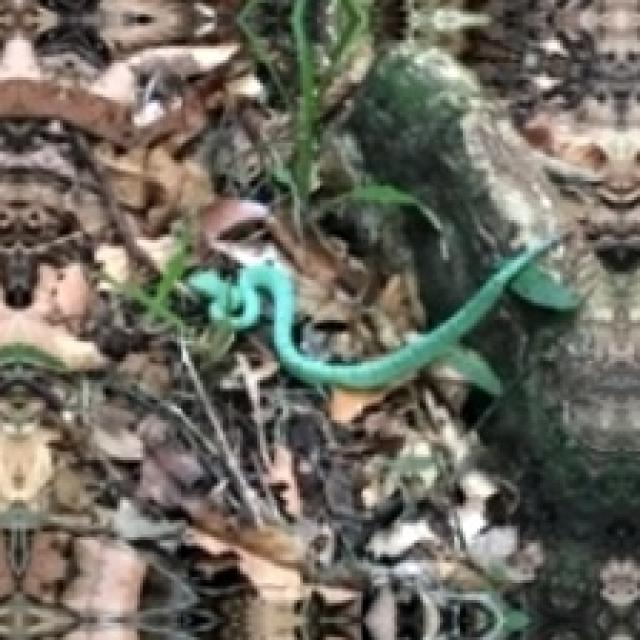north ph temple pitviper: (189, 241, 559, 389)
